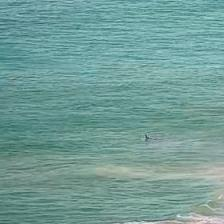surfer: (145, 134, 158, 141)
